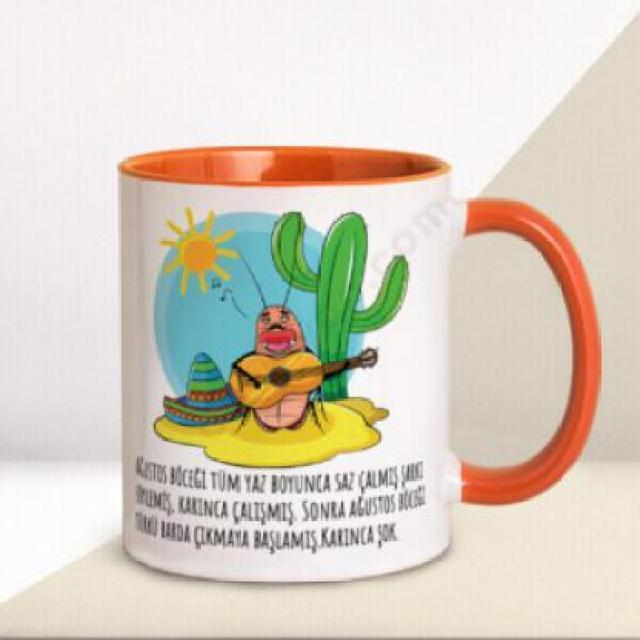taza: (114, 145, 604, 588)
